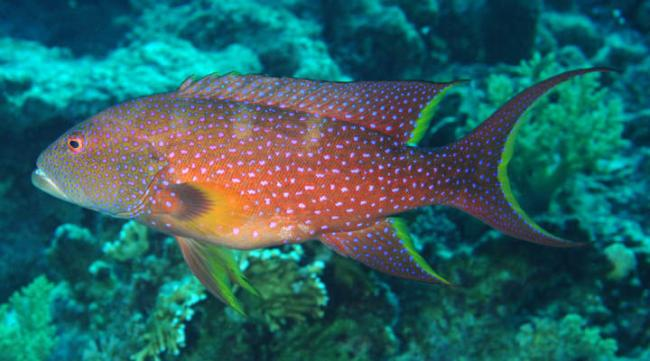fish: (31, 66, 616, 319)
